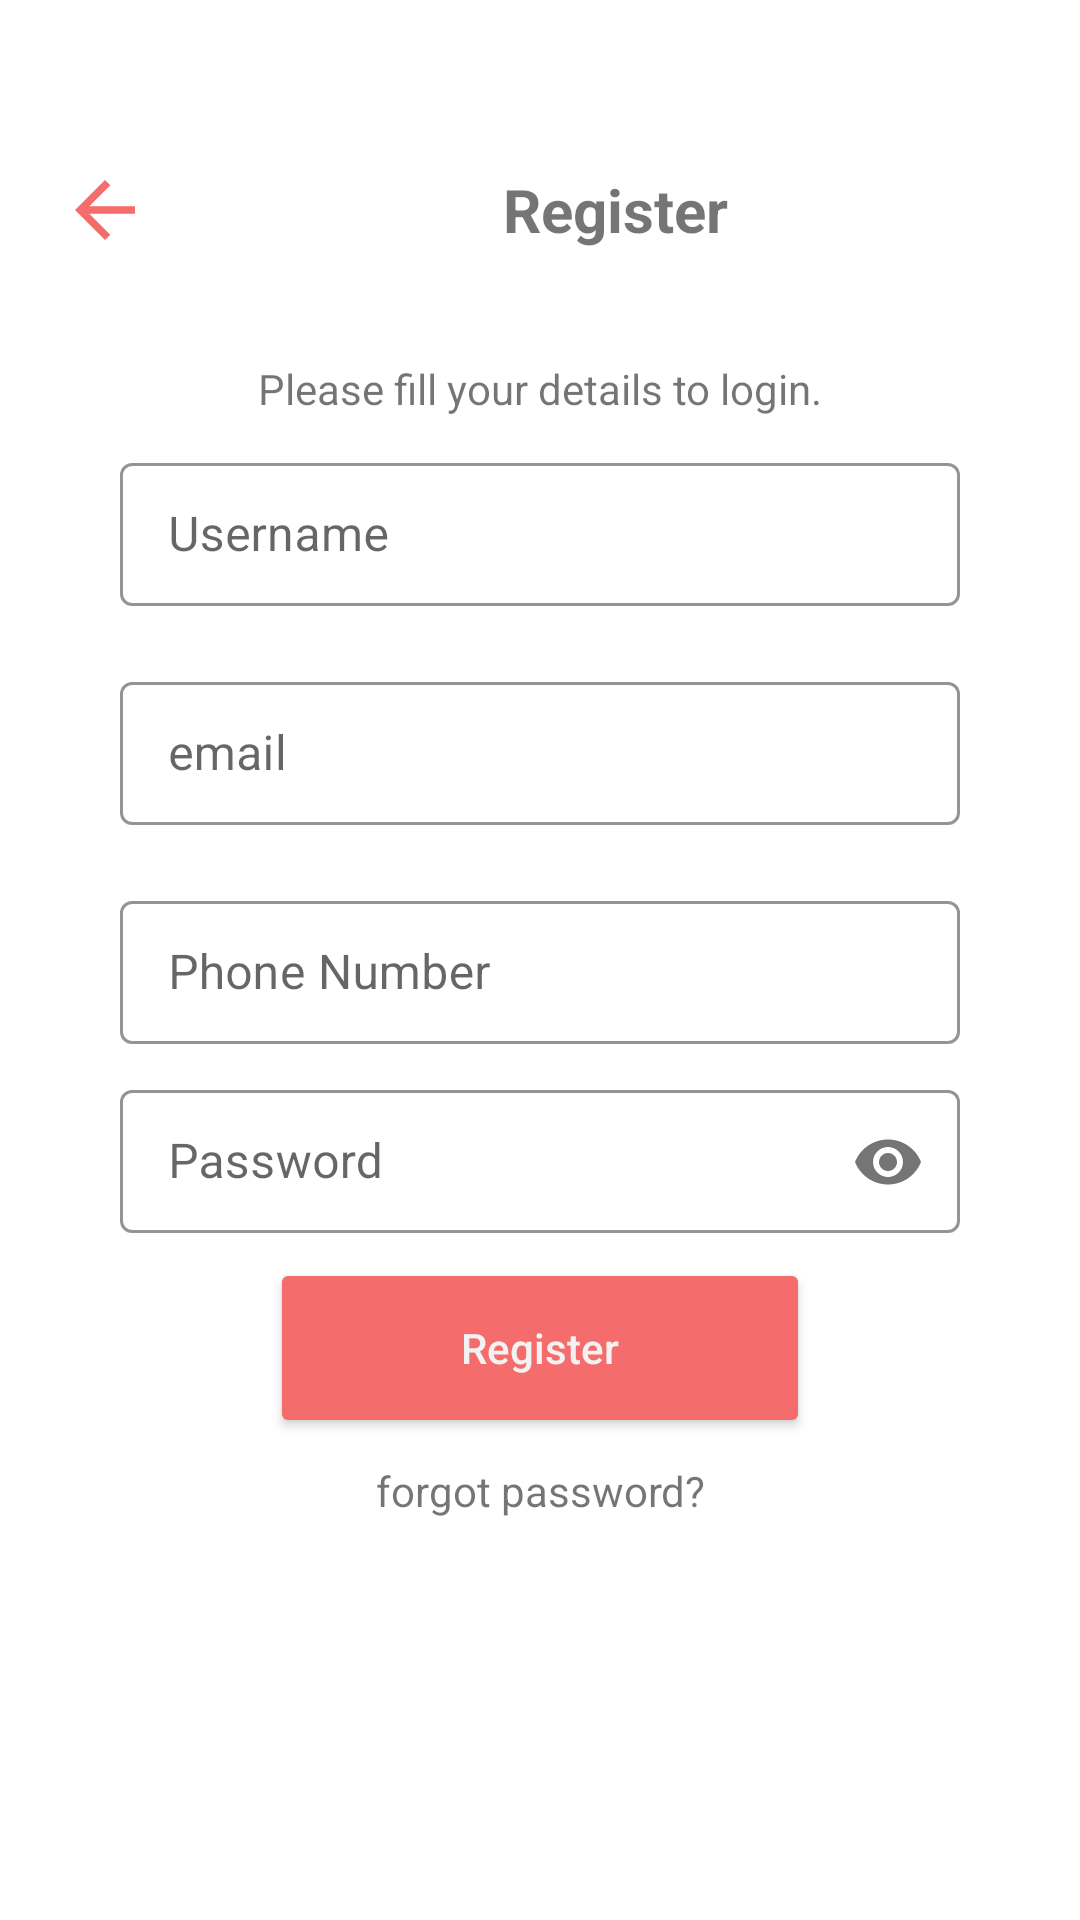

Named icons in this screenshot (1080*1920) and their bounding boxes, (x1, y1, x2, y2):
arrow back: (75, 180, 135, 240)
